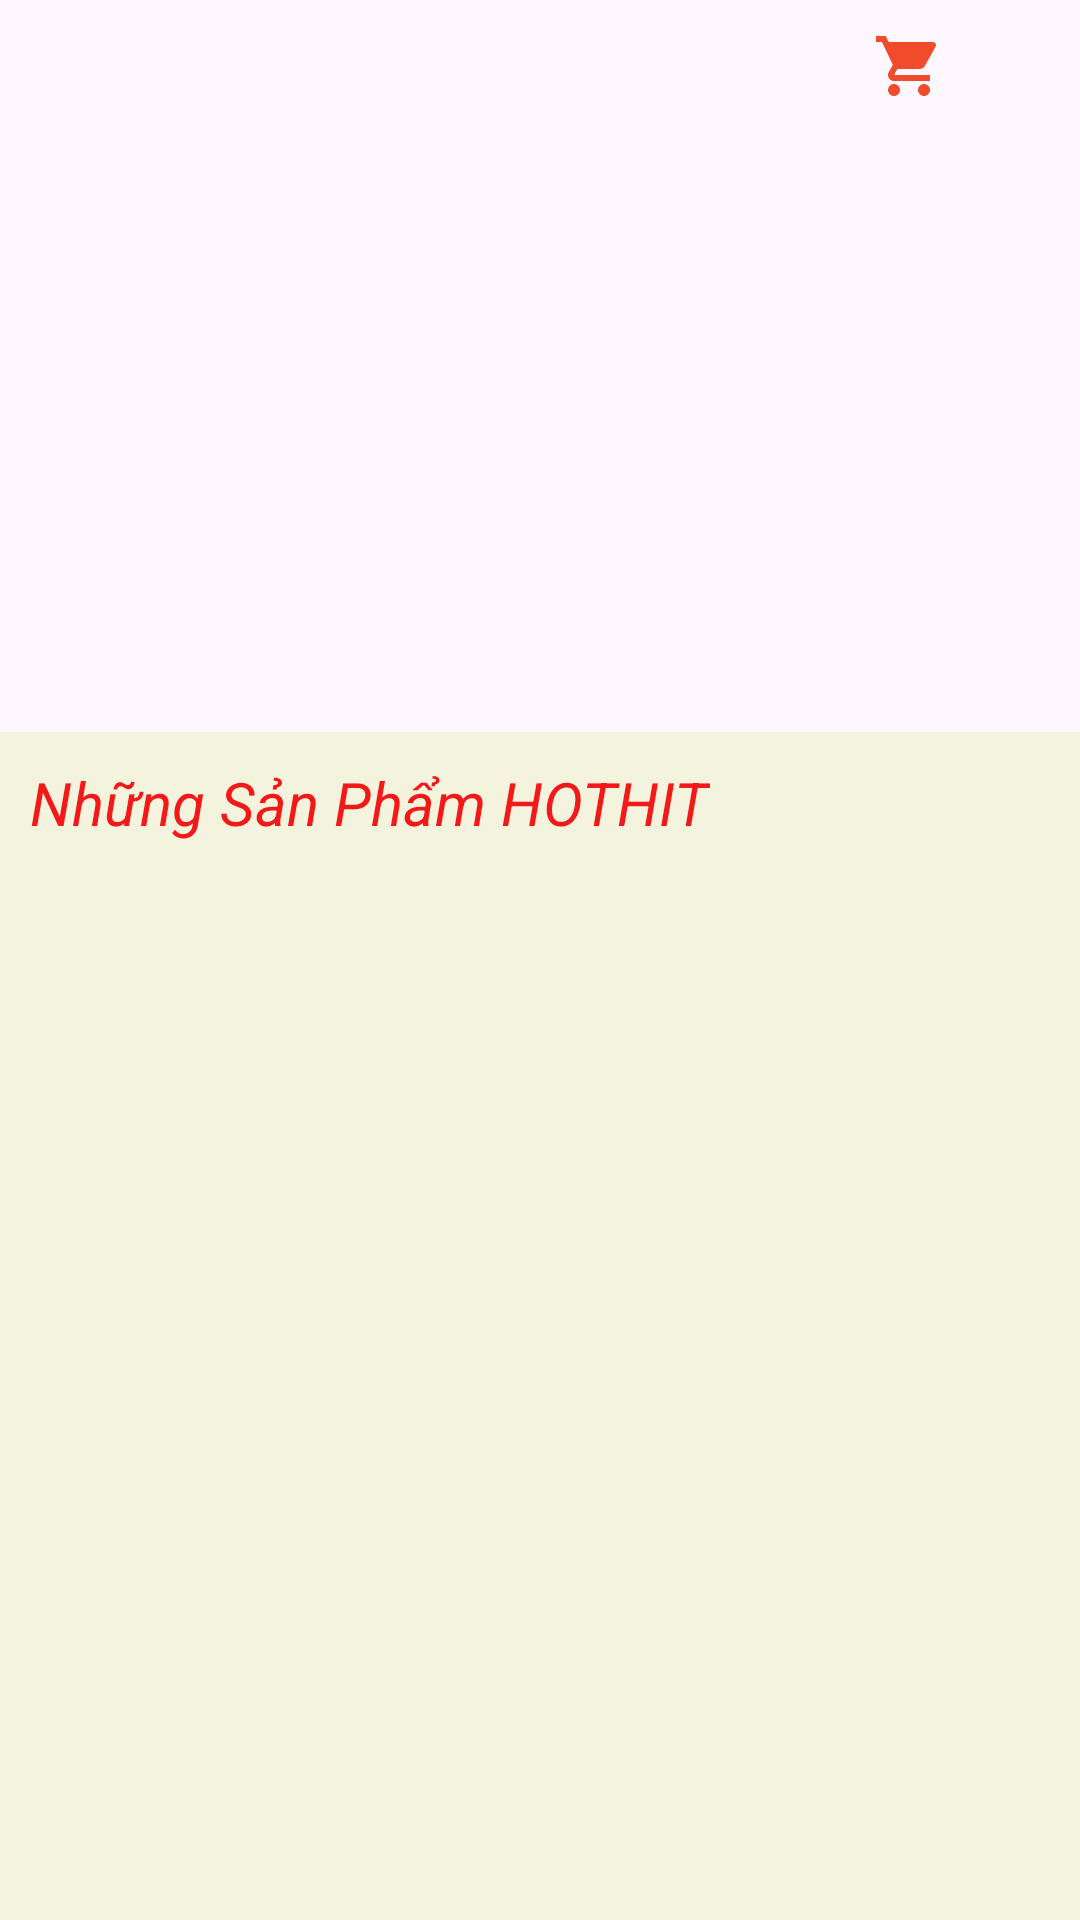

Icons on this 1080px×1920px Android screen, each with its box as (x1, y1, x2, y2):
cart: (876, 36, 936, 96)
